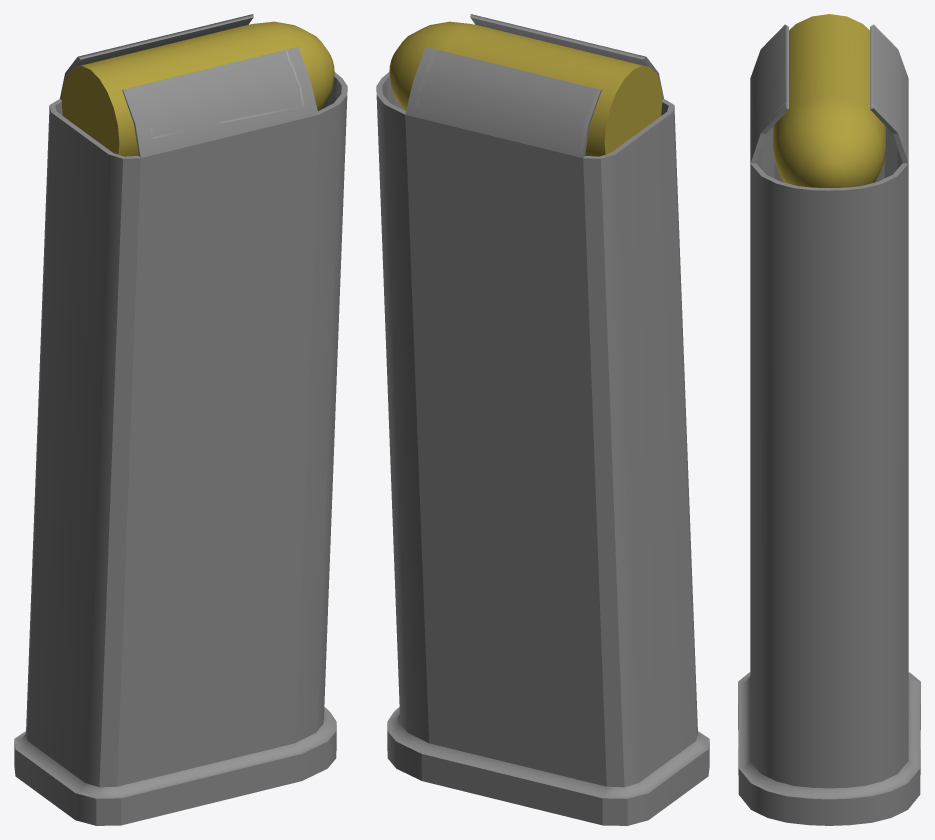
File: Magazine.fbx
3 renders of one model, left to right at view 1: azimuth 30°, elevation 25°; view 2: azimuth 150°, elevation 25°; view 3: azimuth 270°, elevation 25°, orthographic. The views are drawn at different scales.
Parts seen in each view (by area): view 1: polySurface1; view 2: polySurface1; view 3: polySurface1.
Boxes of the visible parts, x1,y1,x2,y2 form: polySurface1: (14,14,347,825); polySurface1: (376,14,709,825); polySurface1: (738,14,920,825).
Bounding box in the file's own units: 2.61 × 6.18 × 1.46.
1 material, 1 textured.
